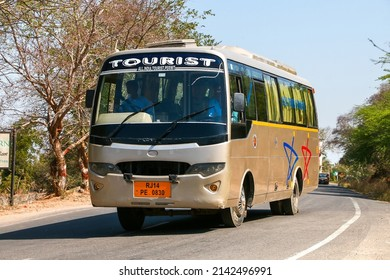bus: (85, 42, 319, 229)
